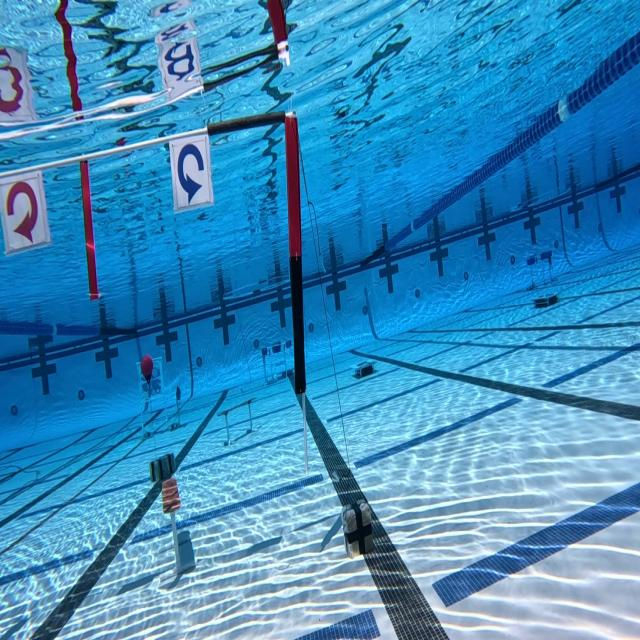blue_side: (167, 132, 215, 209)
red_side: (0, 174, 52, 256)
